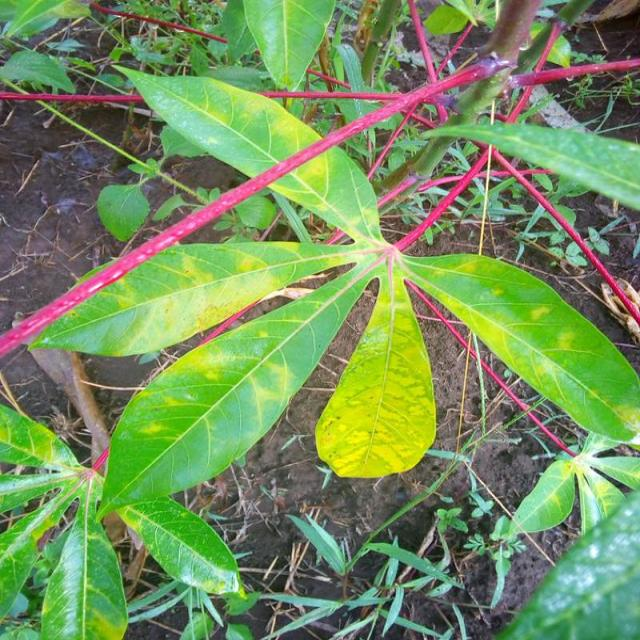cassava leaf: (95, 253, 382, 522), (111, 62, 383, 245), (399, 249, 639, 446), (23, 237, 356, 359), (314, 262, 436, 479), (494, 487, 638, 638), (417, 118, 639, 212)
